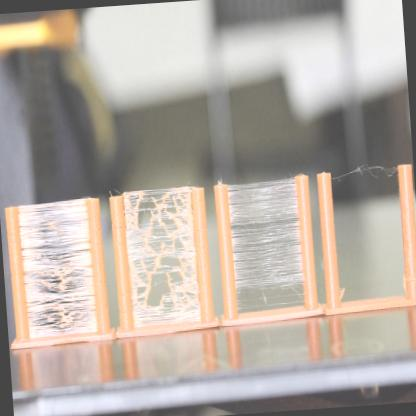fail: (227, 181, 310, 306), (129, 185, 201, 320), (23, 202, 98, 331), (331, 160, 399, 196)
